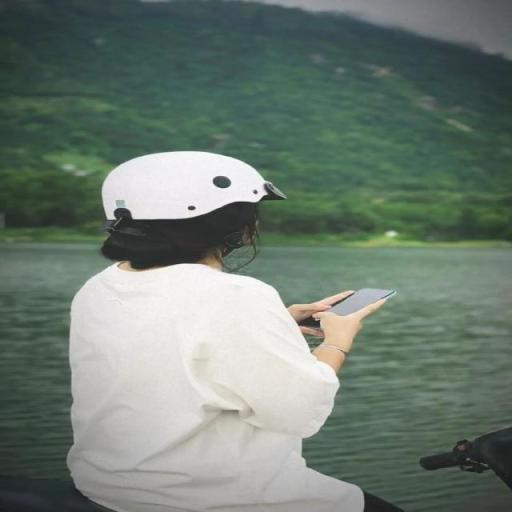with helmet: (101, 148, 290, 222)
